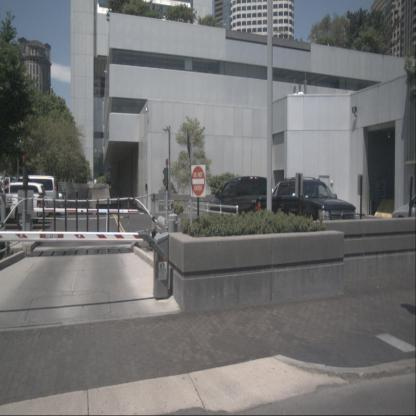vehicle-car: (0, 174, 60, 219), (0, 182, 49, 224), (391, 187, 416, 225)
vehicle-truck: (261, 176, 357, 242), (209, 176, 302, 242), (0, 177, 45, 230)
